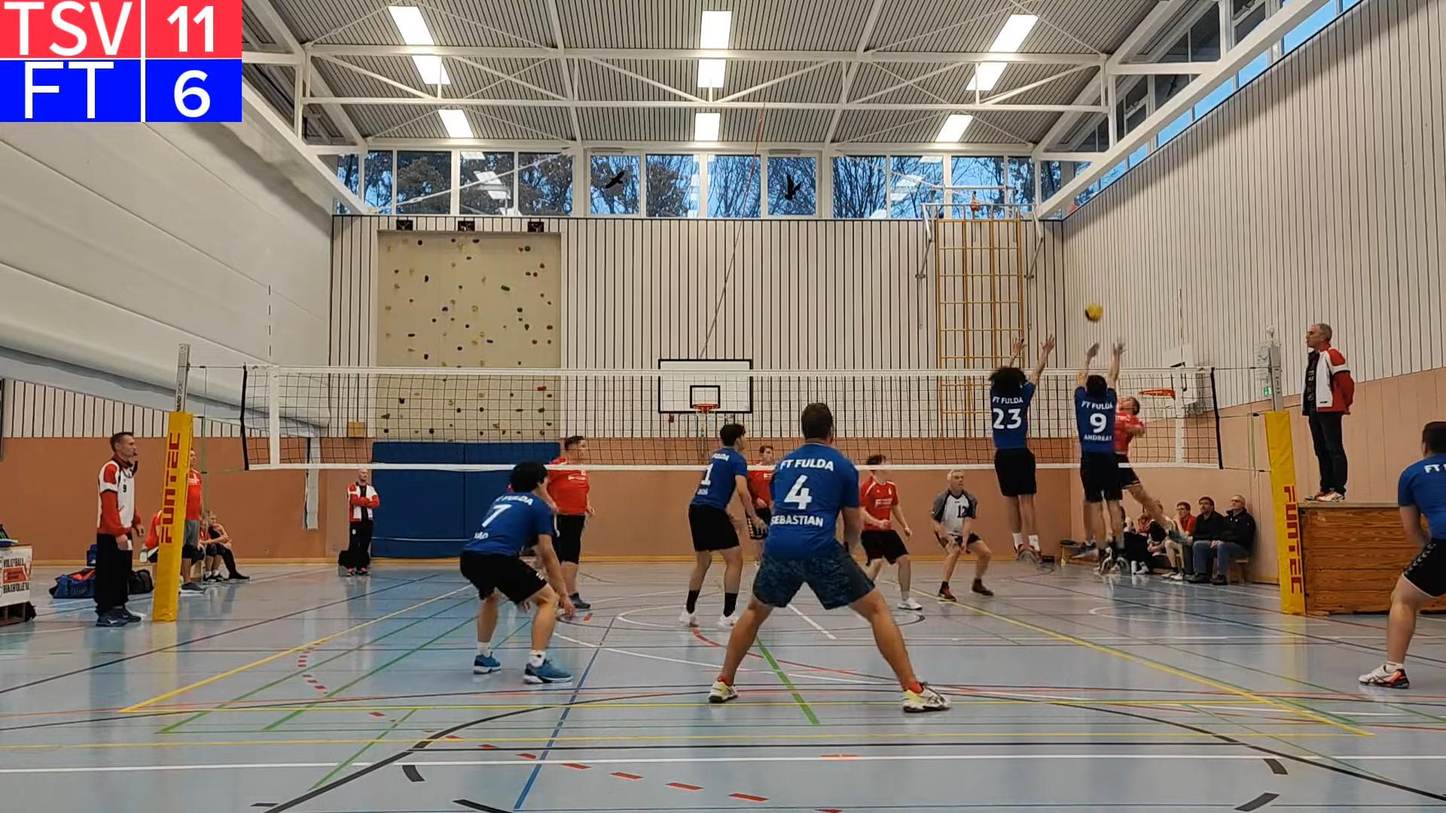Attack: (1105, 388, 1197, 566)
Block: (987, 334, 1058, 568), (1070, 338, 1129, 575)
Player: (709, 403, 949, 711), (460, 462, 574, 683), (1359, 422, 1445, 688), (679, 423, 759, 628), (860, 455, 922, 611), (931, 470, 993, 601), (547, 435, 593, 610), (747, 443, 775, 537)
ball: (1087, 299, 1102, 322)
